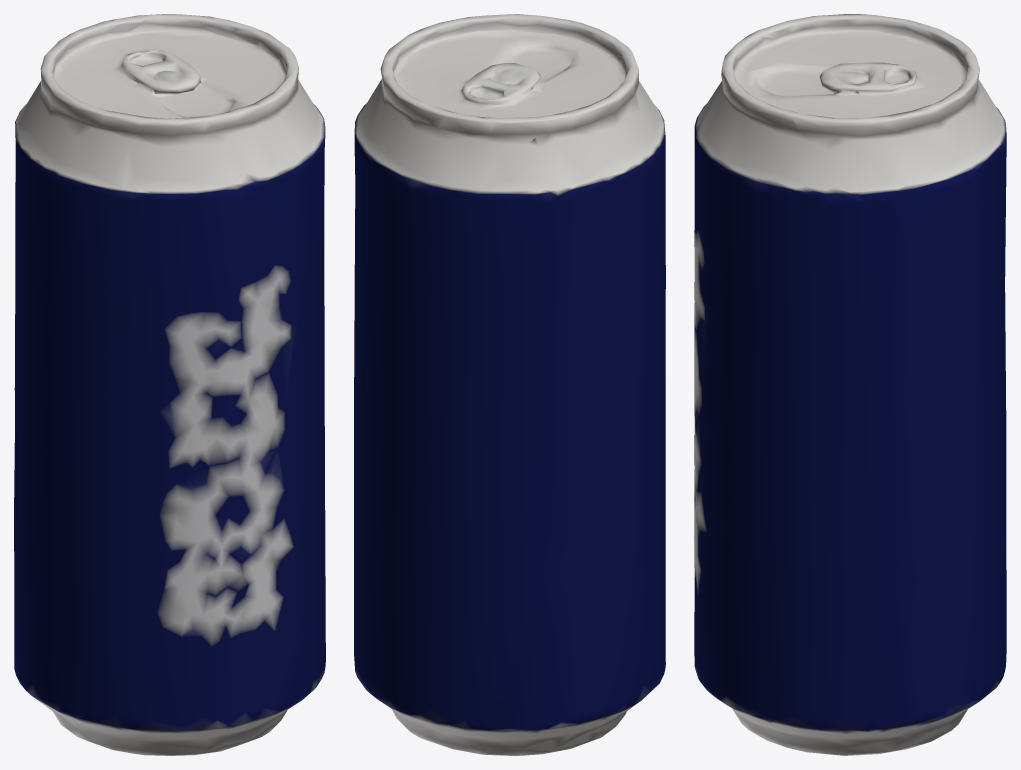
File: gen3d-soda-can-lod0.glb
3 renders of one model, left to right at view 1: azimuth 30°, elevation 25°; view 2: azimuth 150°, elevation 25°; view 3: azimuth 270°, elevation 25°, orthographic.
Parts seen in each view (by area): view 1: part_0; view 2: part_0; view 3: part_0.
Boxes of the visible parts, bbox=[...] form: part_0: bbox=[14, 14, 325, 755]; part_0: bbox=[354, 14, 665, 755]; part_0: bbox=[694, 14, 1006, 755].
Size of the model in its own units: 0.4425 by 1 by 0.4424.
